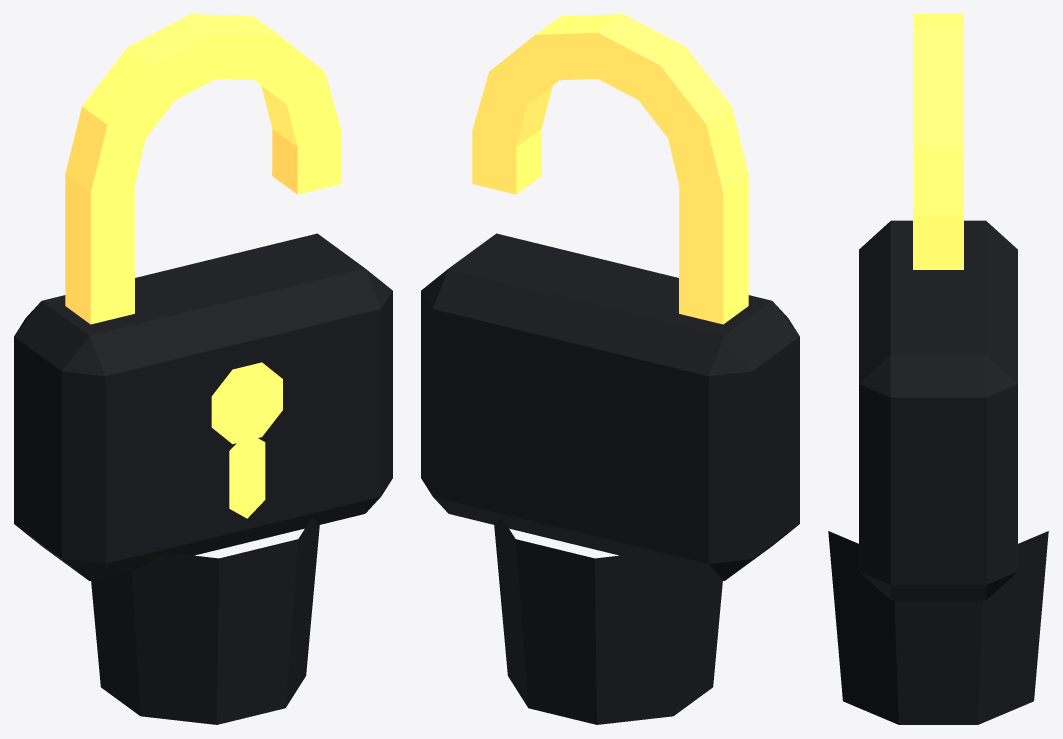
Rendered from daemon_DECRYPT.glb.
3 renders of one model, left to right at view 1: azimuth 30°, elevation 25°; view 2: azimuth 150°, elevation 25°; view 3: azimuth 270°, elevation 25°, orthographic.
Visible parts, largest first — view 1: Mesh; view 2: Mesh; view 3: Mesh.
Part boxes in pixels (left/top/right/bottom): Mesh: left=14, top=14, right=392, bottom=724; Mesh: left=421, top=14, right=799, bottom=724; Mesh: left=828, top=14, right=1048, bottom=724.
Size of the model in its own units: 0.024 by 0.0456 by 0.0139.
